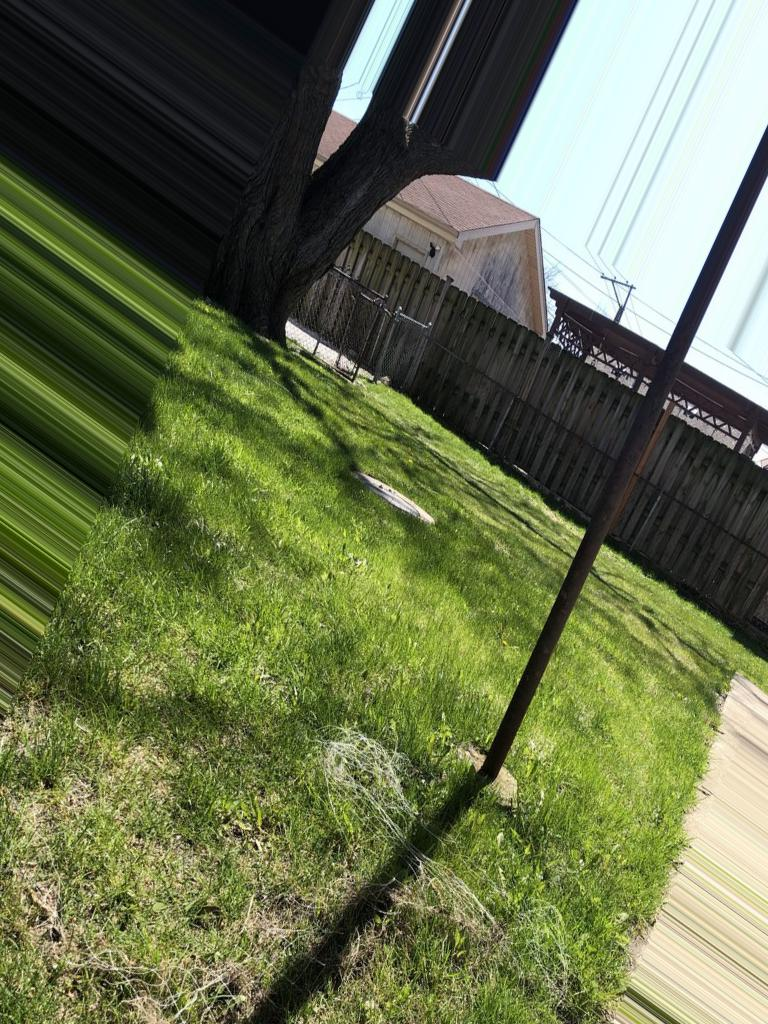patch: (36, 744, 262, 986), (693, 834, 765, 1024), (734, 680, 767, 833), (664, 915, 693, 1024)
